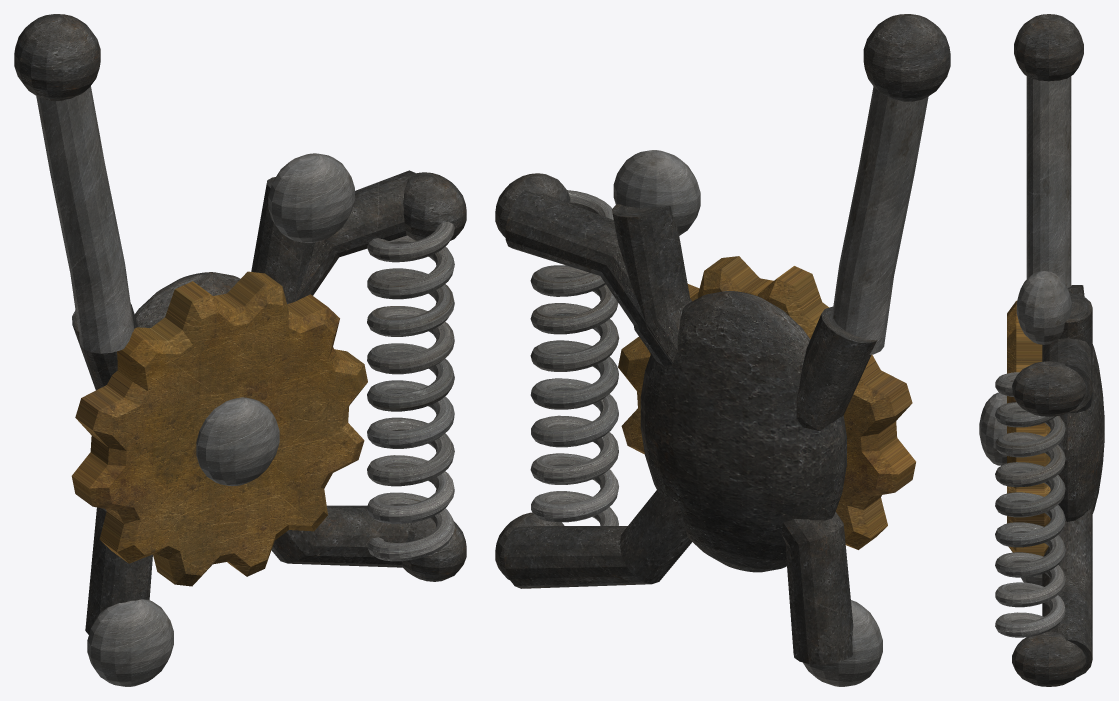
The model's file is mechanism.obj.
The picture shows the model from 3 angles, left to right: view 1: azimuth 30°, elevation 25°; view 2: azimuth 150°, elevation 25°; view 3: azimuth 270°, elevation 25°; orthographic projection. The views are drawn at different scales.
Parts seen in each view (by area): view 1: gear, spring, lever, upper_pivot, lever_cap, lower_pivot, hub, arm_spring_low, arm_spring_high, arm_lower_pivot, spring_high, arm_upper_pivot (+3 smaller); view 2: housing, spring, gear, lever, arm_spring_low, arm_spring_high, arm_lower_pivot, arm_upper_pivot, lever_cap, arm_lever, upper_pivot, lower_pivot (+2 smaller); view 3: spring, lever, housing, arm_spring_low, lever_cap, gear, spring_high, upper_pivot, spring_low, arm_spring_high, arm_upper_pivot, hub.
Part boxes in pixels (x1,y1,x2,y2): gear: [71, 271, 367, 586]; spring: [367, 221, 454, 561]; lever: [36, 86, 134, 353]; upper_pivot: [268, 153, 354, 242]; lever_cap: [14, 14, 100, 100]; lower_pivot: [87, 599, 173, 686]; hub: [196, 397, 279, 486]; arm_spring_low: [271, 505, 410, 567]; arm_spring_high: [286, 170, 415, 303]; arm_lower_pivot: [85, 507, 152, 634]; spring_high: [403, 172, 466, 240]; arm_upper_pivot: [251, 177, 315, 303]; housing: [640, 291, 846, 572]; spring: [530, 190, 619, 525]; gear: [618, 256, 915, 549]; lever: [832, 86, 928, 354]; arm_spring_low: [504, 490, 691, 588]; arm_spring_high: [505, 190, 691, 362]; arm_lower_pivot: [781, 512, 853, 664]; arm_upper_pivot: [612, 203, 690, 366]; lever_cap: [863, 14, 950, 101]; arm_lever: [796, 306, 877, 430]; upper_pivot: [613, 150, 700, 235]; lower_pivot: [803, 600, 882, 686]; spring: [995, 372, 1065, 637]; lever: [1026, 76, 1071, 287]; housing: [1058, 344, 1104, 521]; arm_spring_low: [1042, 507, 1092, 677]; lever_cap: [1014, 14, 1083, 81]; gear: [1007, 300, 1050, 556]; spring_high: [1012, 361, 1085, 416]; upper_pivot: [1016, 271, 1071, 344]; spring_low: [1012, 631, 1085, 686]; arm_spring_high: [1042, 338, 1092, 412]; arm_upper_pivot: [1042, 293, 1092, 413]; hub: [979, 392, 1006, 465].
Size of the model in its own units: 67.49 by 100 by 20.76.
3 materials, 3 textured.
